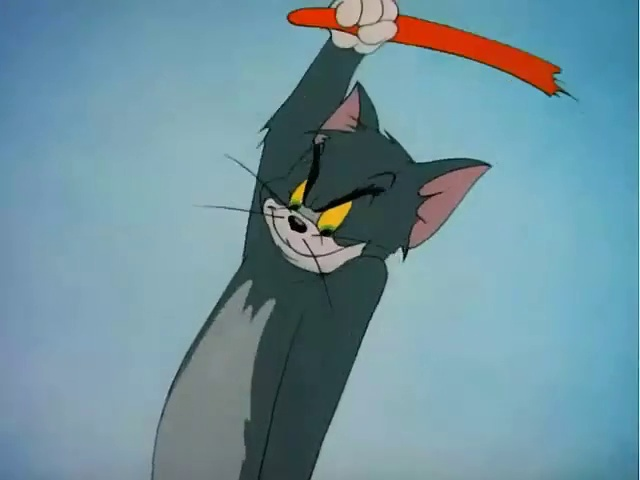tom: (108, 17, 539, 479)
